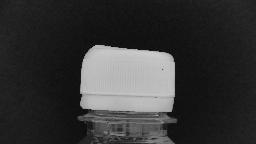Broken Cap: (78, 42, 176, 112)
